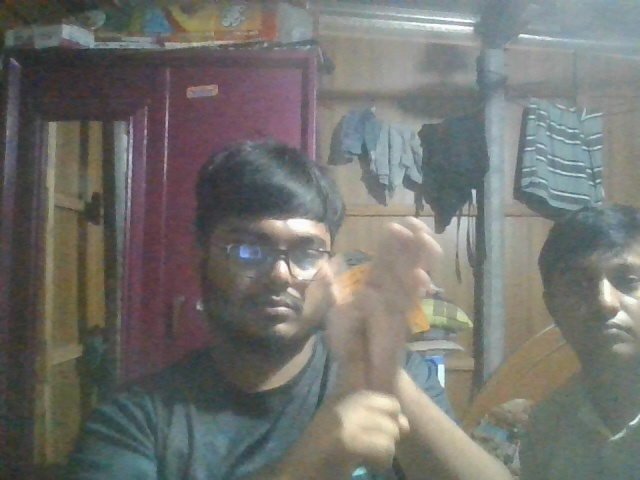r: (265, 228, 484, 469)
